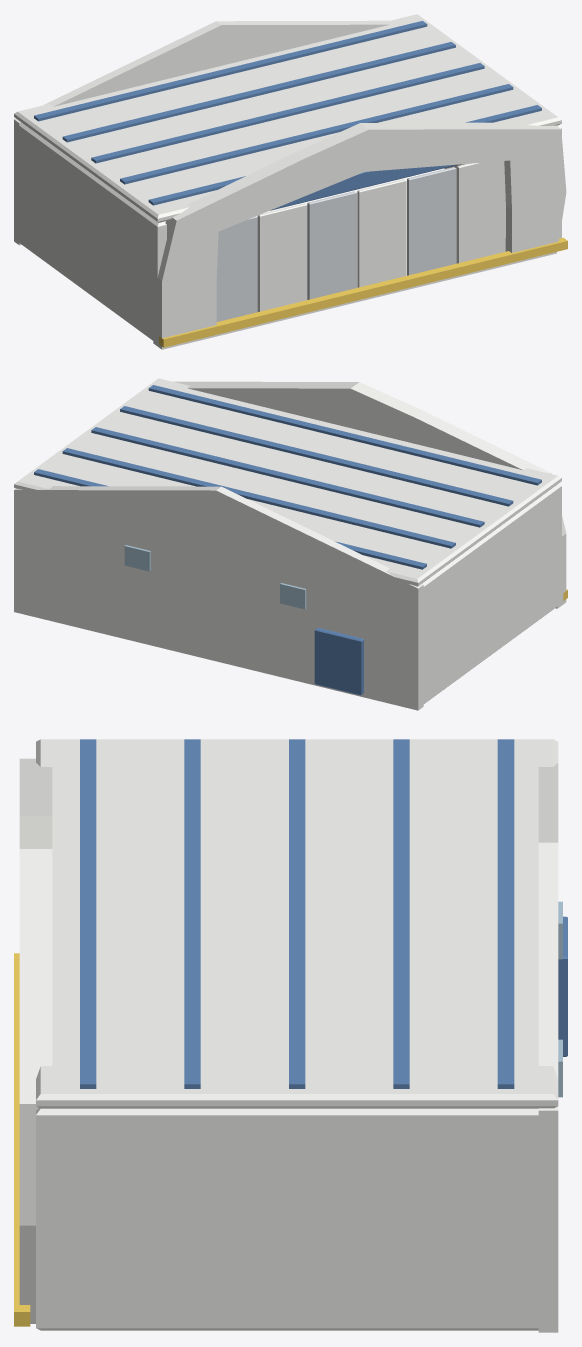
Rendered from hangar_frontage.glb.
3 views of the same model, one above another, from view 1: azimuth 30°, elevation 25°; view 2: azimuth 150°, elevation 25°; view 3: azimuth 270°, elevation 25° (orthographic). The views are drawn at different scales.
Parts seen in each view (by area): view 1: hangar-frontage; view 2: hangar-frontage; view 3: hangar-frontage.
Boxes of the visible parts, left/top/right/bottom form: hangar-frontage: left=14, top=14, right=567, bottom=349; hangar-frontage: left=14, top=378, right=567, bottom=710; hangar-frontage: left=14, top=739, right=567, bottom=1332.
Bounding box in the file's own units: 26 × 10.5 × 16.97.
1 material, 1 textured.
